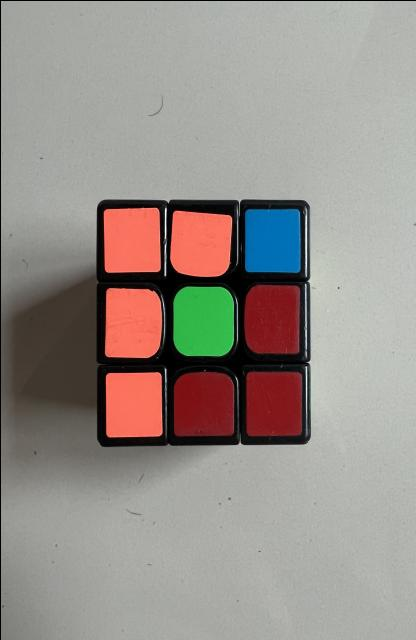Blue: (244, 208, 300, 271)
Green: (172, 285, 234, 355)
Orange: (169, 210, 232, 276), (104, 288, 161, 358), (105, 371, 161, 436), (103, 206, 159, 271)
Red: (172, 371, 233, 435), (244, 284, 299, 352), (245, 371, 301, 435)
